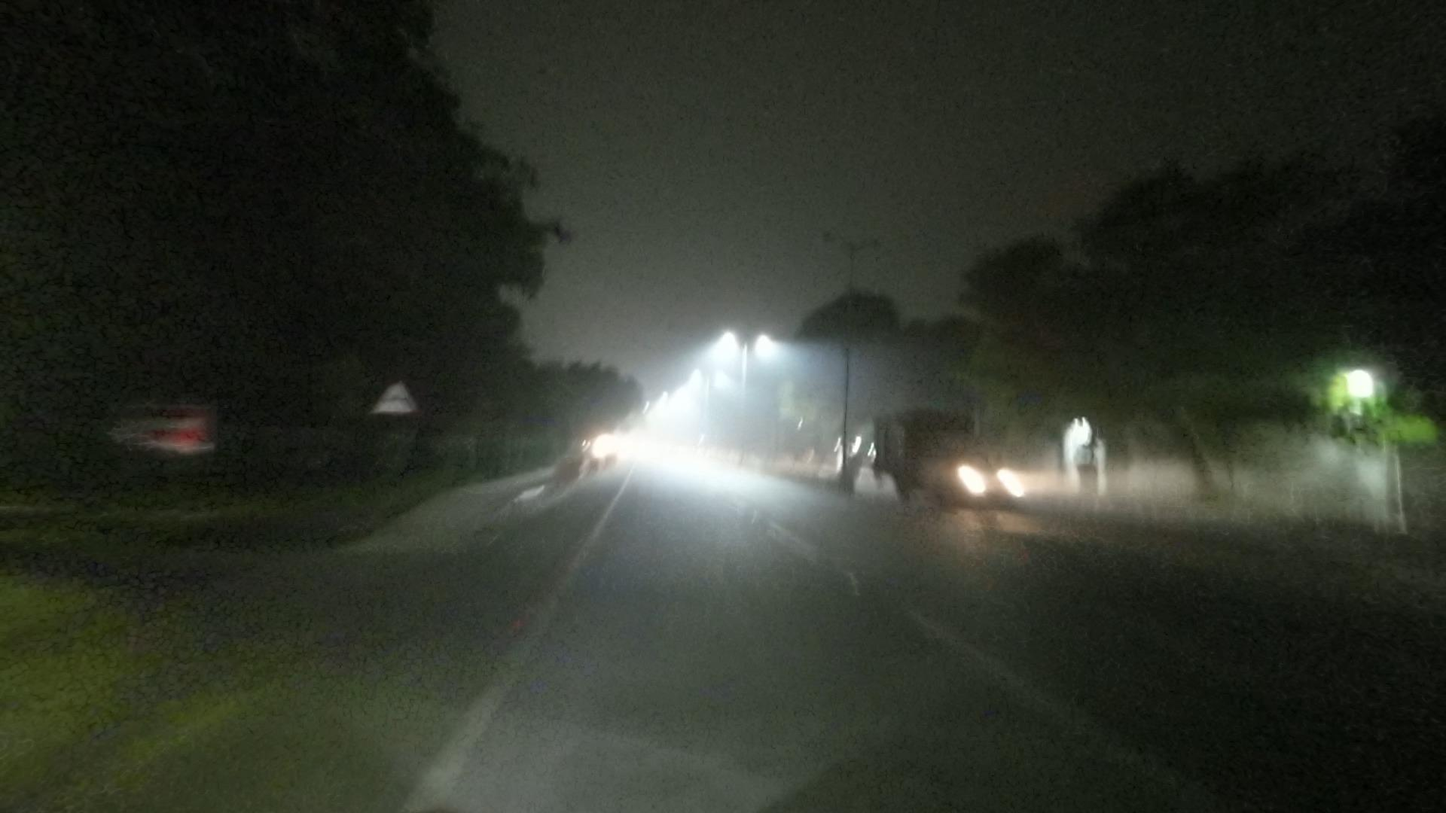streetlight: (821, 227, 849, 247), (856, 239, 879, 249)
